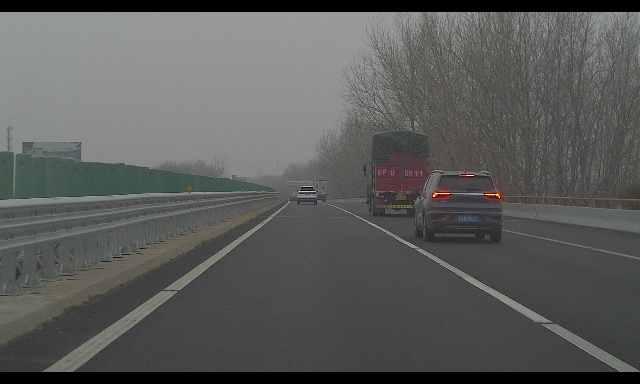car: (410, 169, 503, 243), (296, 186, 318, 205), (289, 194, 298, 201)
truck: (362, 130, 430, 216), (312, 180, 328, 202), (292, 190, 299, 197)
